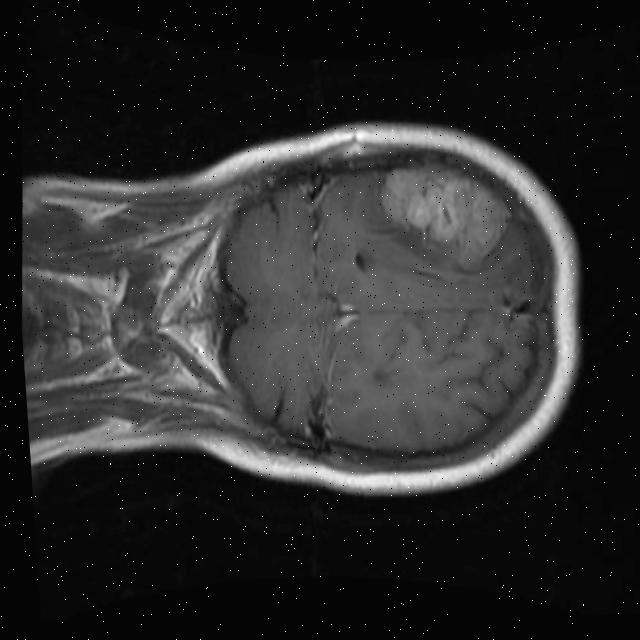Meningioma: (374, 159, 519, 278)
